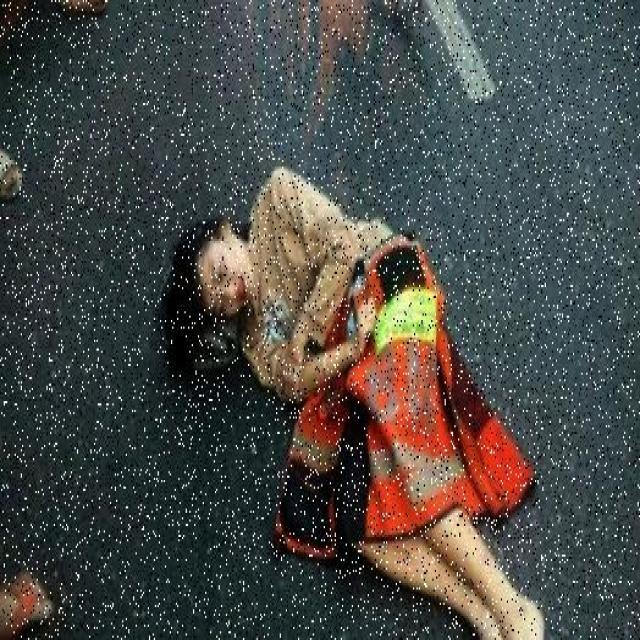fall: (182, 178, 561, 638)
